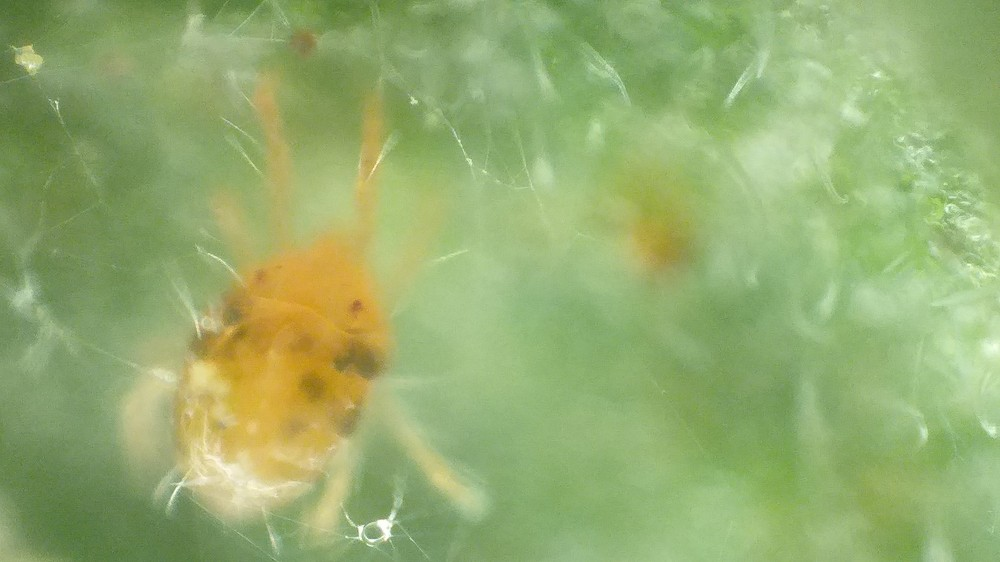Aracnido Rojo: (119, 80, 523, 541)
